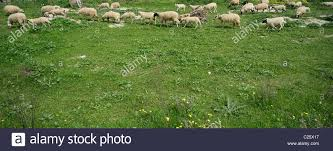sheep: (264, 15, 299, 33), (46, 5, 78, 24), (152, 9, 182, 29), (3, 3, 37, 18), (217, 11, 246, 28), (6, 13, 33, 29), (27, 16, 51, 31), (180, 14, 203, 29), (96, 9, 122, 22), (116, 10, 140, 24), (81, 6, 101, 21), (251, 1, 272, 15), (138, 10, 159, 23), (233, 2, 255, 13), (192, 5, 216, 14), (297, 6, 314, 18), (266, 4, 285, 14), (202, 1, 218, 12), (173, 2, 188, 13), (286, 1, 307, 8), (106, 1, 122, 10), (39, 6, 59, 13)
